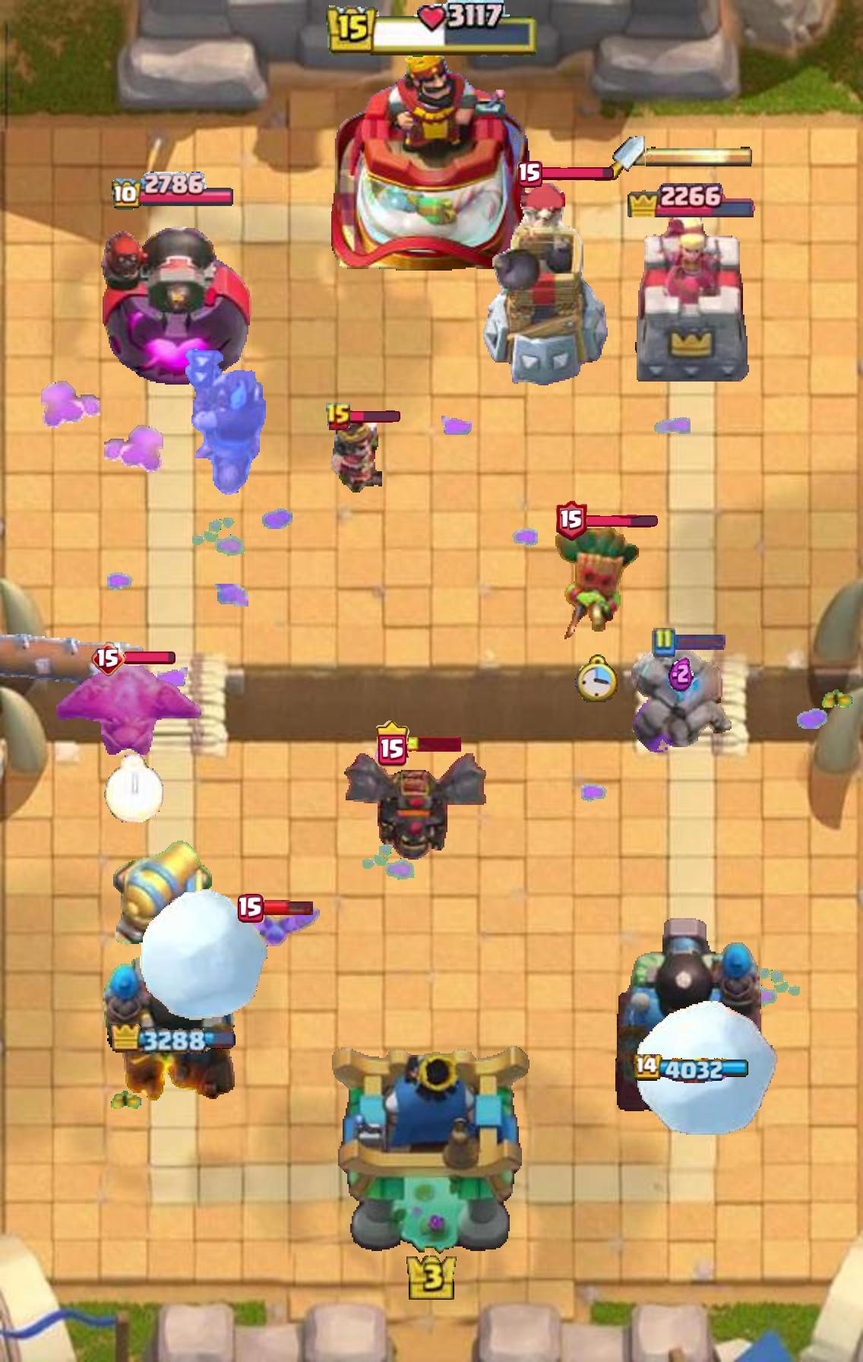bar: (538, 166, 613, 182), (261, 899, 314, 917), (585, 515, 658, 528), (406, 736, 461, 752), (123, 651, 175, 665), (349, 410, 400, 423)
bar-level: (374, 720, 410, 767), (555, 501, 587, 542), (91, 641, 126, 676), (237, 894, 265, 923), (325, 402, 352, 432), (518, 160, 543, 188)
